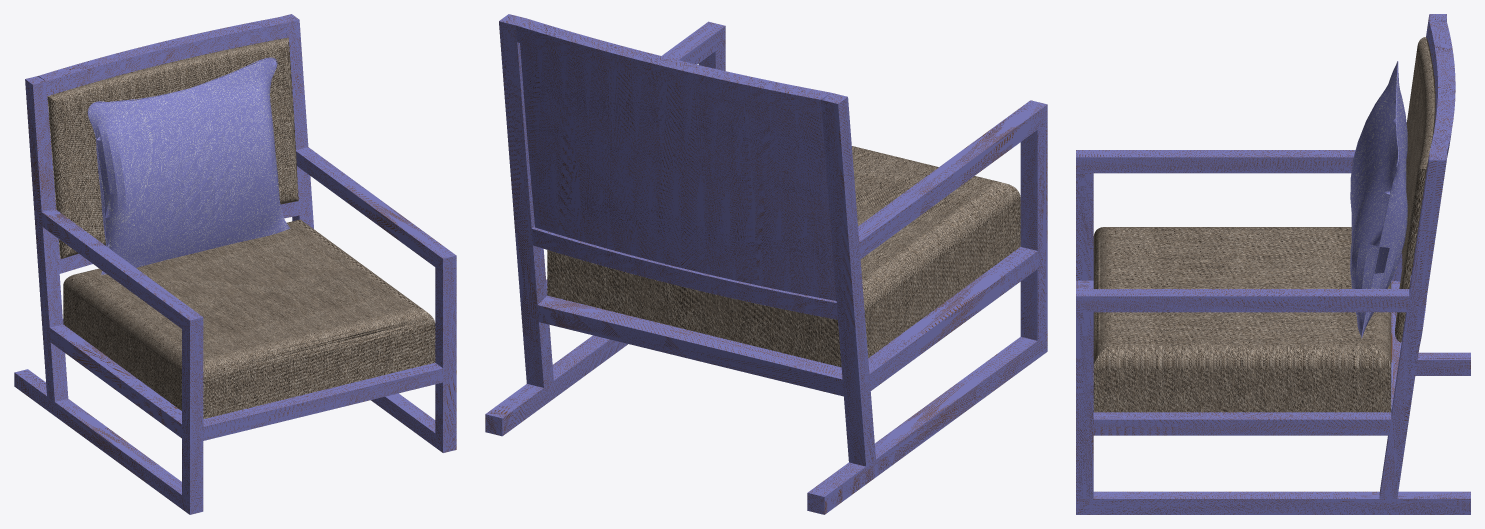
The picture shows the model from 3 angles, left to right: view 1: azimuth 30°, elevation 25°; view 2: azimuth 150°, elevation 25°; view 3: azimuth 270°, elevation 25°; orthographic projection. The views are drawn at different scales.
Visible parts, largest first — view 1: instance_0_ID45, asiento.001_ID18, instance_1_ID112, asiento_ID3; view 2: instance_0_ID45, asiento.001_ID18; view 3: instance_0_ID45, asiento.001_ID18, instance_1_ID112, asiento_ID3.
Boxes of the visible parts, <box> form: instance_0_ID45: <box>14,14,456,514</box>; asiento.001_ID18: <box>63,219,435,419</box>; instance_1_ID112: <box>87,57,290,274</box>; asiento_ID3: <box>48,38,298,258</box>; instance_0_ID45: <box>485,14,1047,514</box>; asiento.001_ID18: <box>547,146,1020,367</box>; instance_0_ID45: <box>1076,14,1470,514</box>; asiento.001_ID18: <box>1093,227,1391,412</box>; instance_1_ID112: <box>1350,61,1407,338</box>; asiento_ID3: <box>1395,37,1434,342</box>.
Bounding box in the file's own units: 6.96 × 7.86 × 7.92.
Materials: 5 (3 with a texture image).
